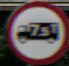Heavy Vehicles: (9, 8, 59, 55)
